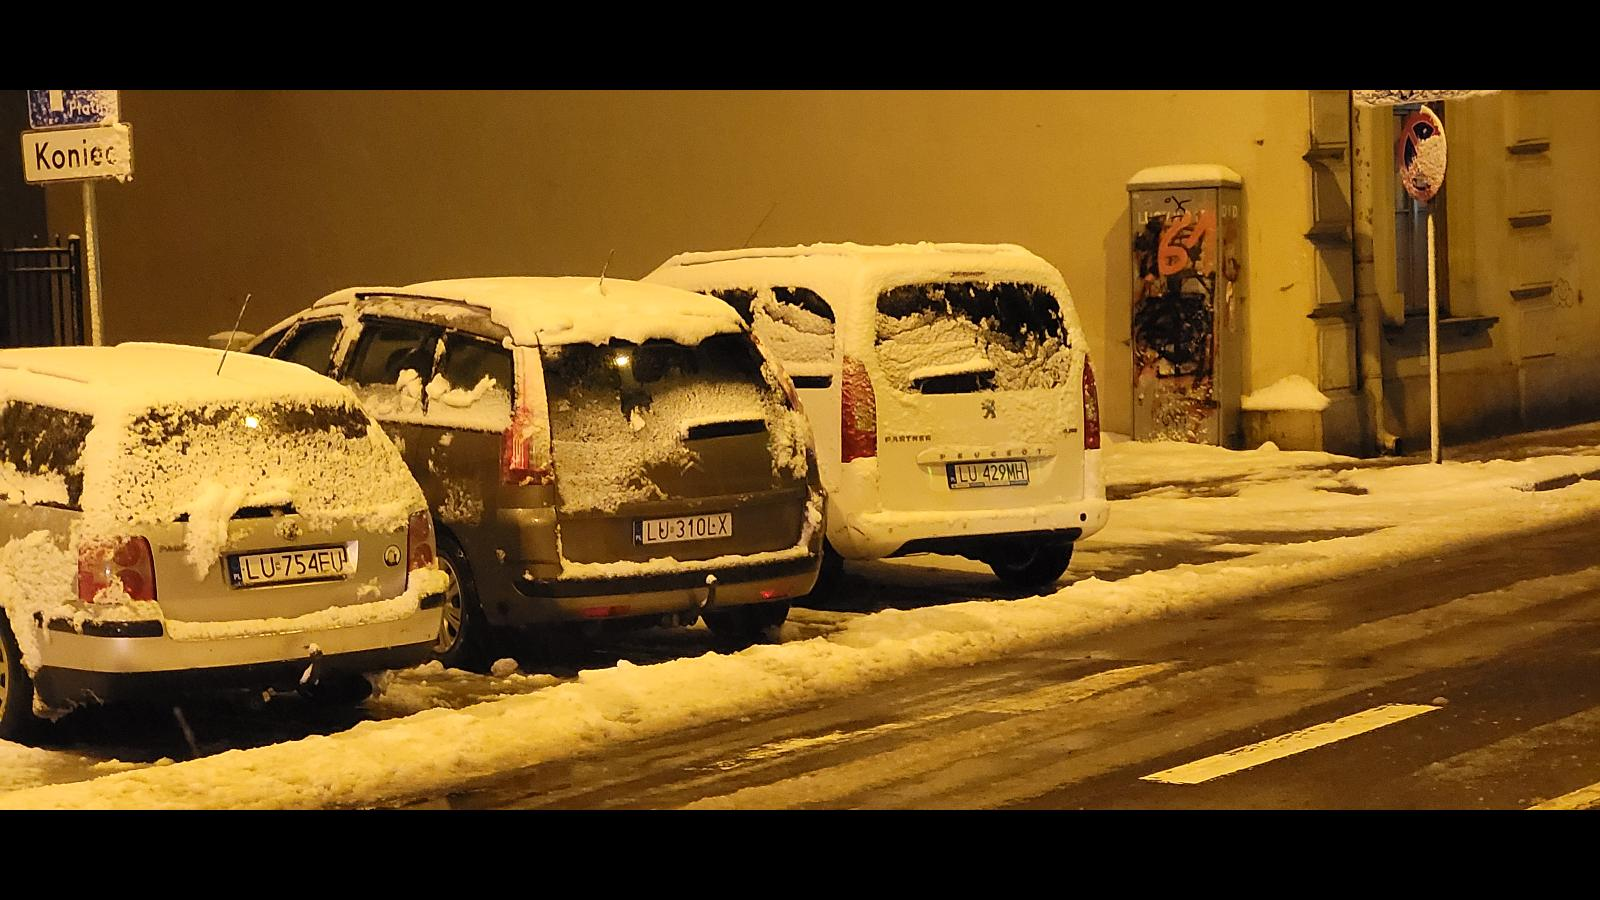plates: (227, 546, 349, 590), (634, 512, 732, 546), (946, 461, 1030, 490)
